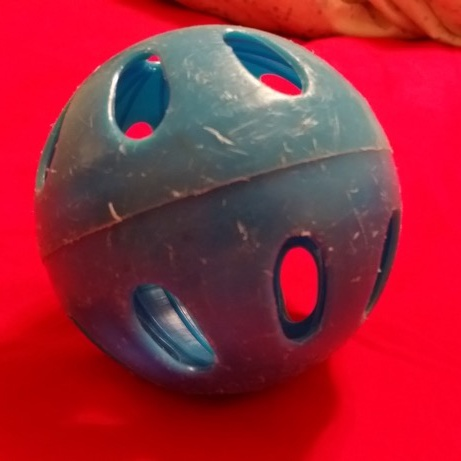blueball: (29, 18, 409, 407)
